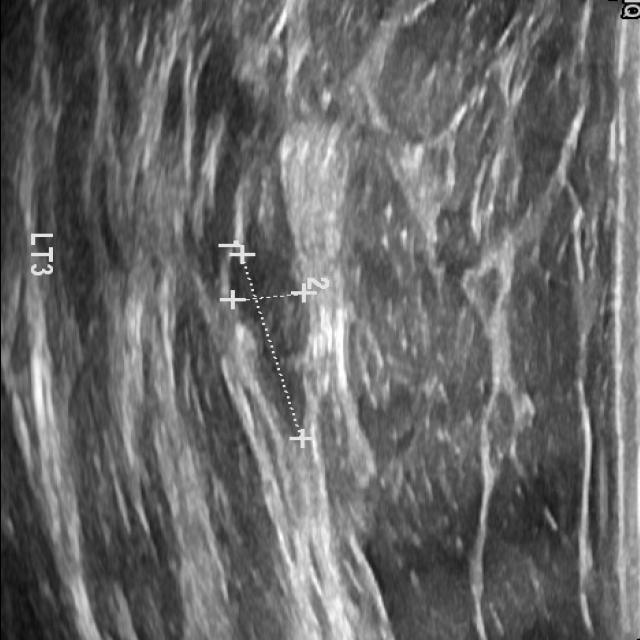Benign: (223, 254, 319, 410)
